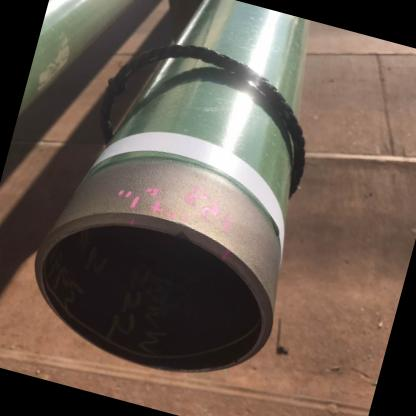Bevel: (168, 224, 196, 246)
